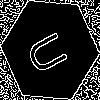U: (25, 25, 77, 78)
